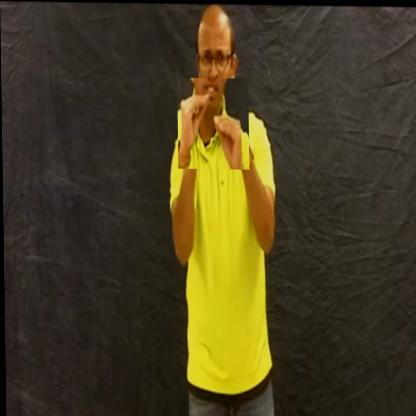Fix: (177, 77, 249, 169)
